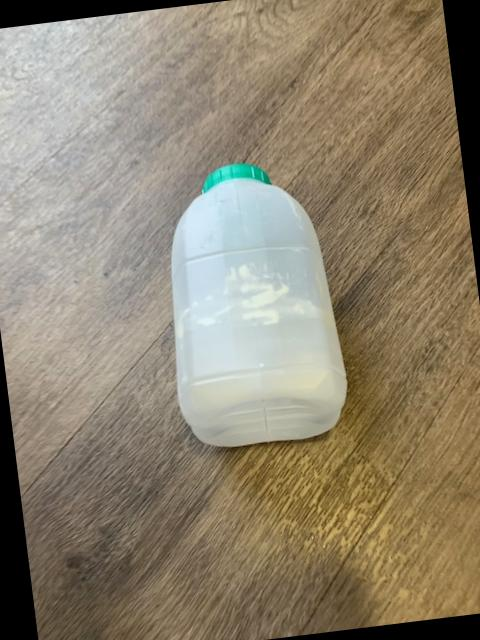plastic: (172, 163, 347, 443)
